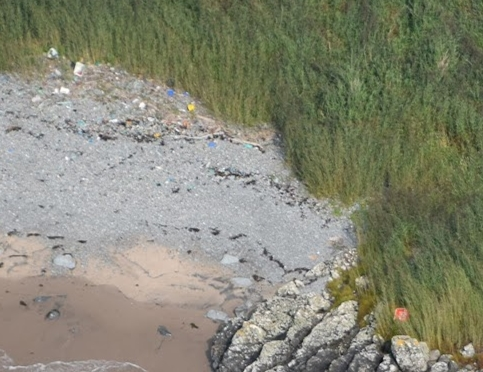cuboid: (384, 298, 419, 331)
scattered_barrel: (29, 38, 285, 155)
